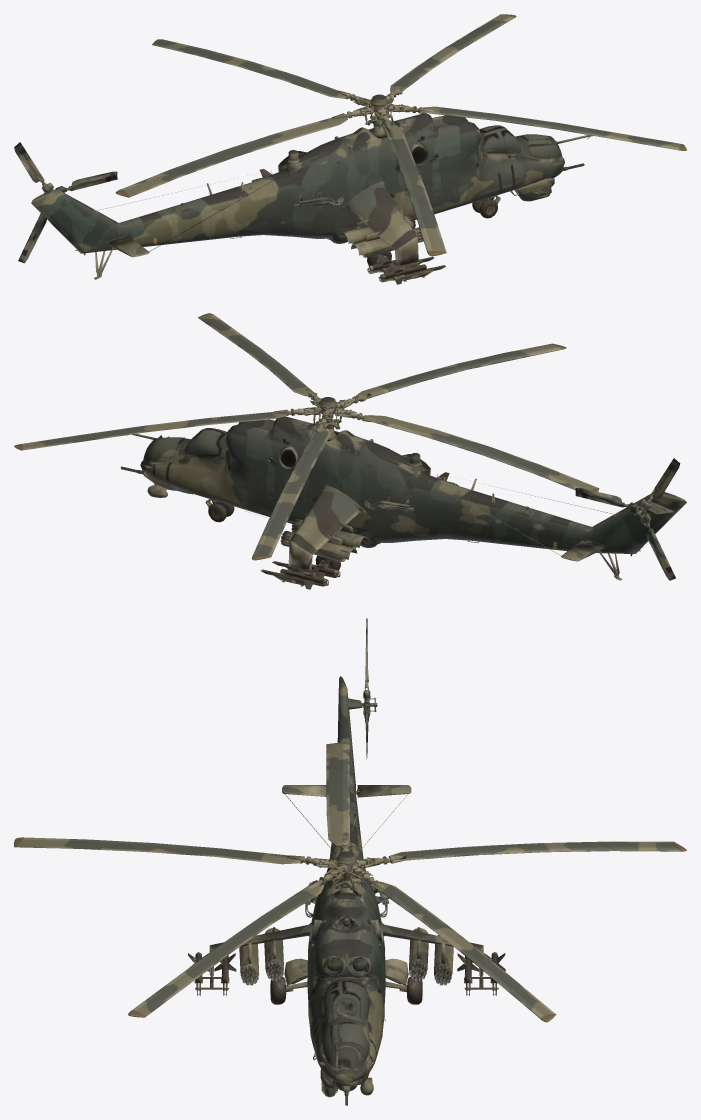
File: fh_battle_e_helicopter.glb
3 views of the same model, one above another, from view 1: azimuth 30°, elevation 25°; view 2: azimuth 150°, elevation 25°; view 3: azimuth 270°, elevation 25° (orthographic). The views are drawn at different scales.
Parts seen in each view (by area): view 1: helicopter, rotor, tail_rotor; view 2: helicopter, rotor, tail_rotor; view 3: helicopter, rotor.
Boxes of the visible parts, bbox=[...] form: helicopter: bbox=[31, 113, 592, 284]; rotor: bbox=[115, 14, 686, 256]; tail_rotor: bbox=[14, 142, 117, 263]; helicopter: bbox=[120, 416, 686, 589]; rotor: bbox=[14, 313, 598, 560]; tail_rotor: bbox=[575, 458, 680, 580]; helicopter: bbox=[188, 676, 505, 1105]; rotor: bbox=[14, 742, 686, 1022].
Size of the model in its own units: 1.02 by 0.299 by 0.8884.
Materials: 1 (1 with a texture image).
